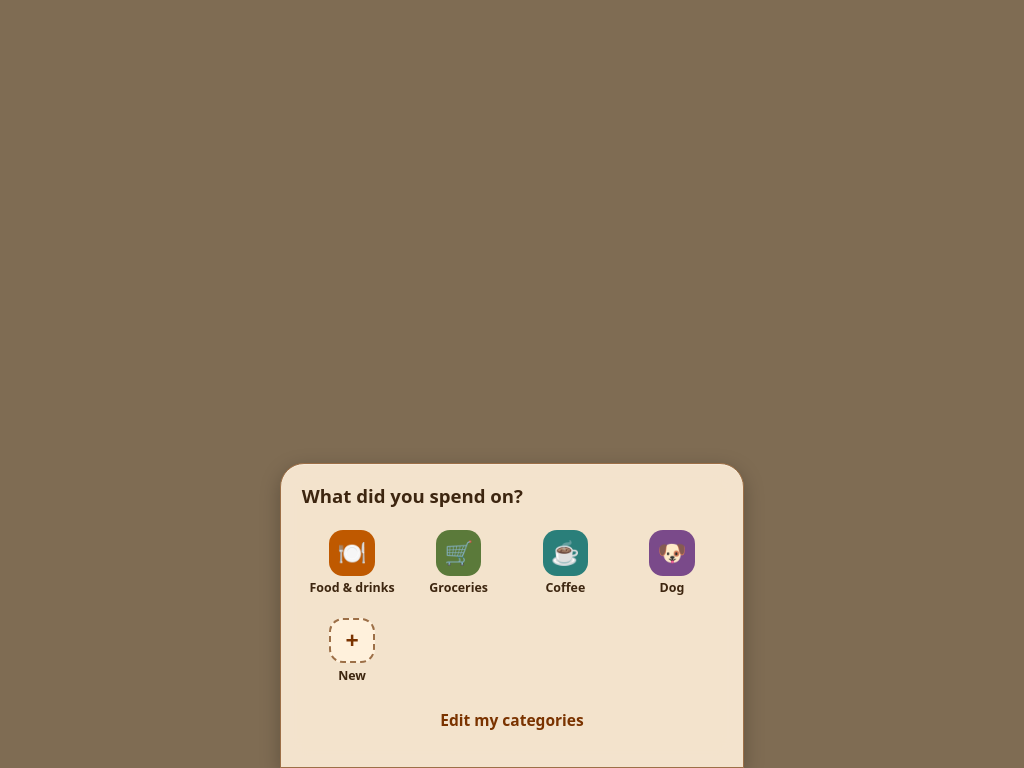
Test: PersonalSpendingSheet, refused saves › shows the translated message for PERSONAL_ENTRY_AMOUNT_NOT_POSITIVE above Save
Step 1. Click the button "☕ Coffee" → coordinates (565, 563), box [515,524,616,601]
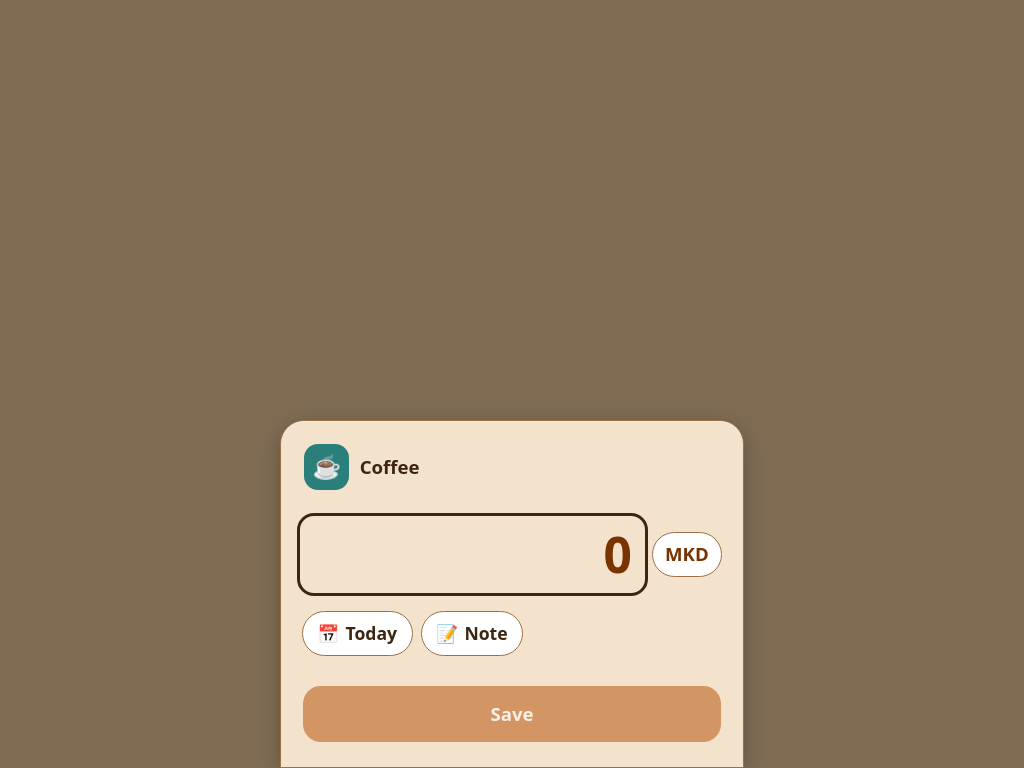
Step 2. Type "120" into the field named "Amount" → coordinates (473, 554), box [300,516,646,592]
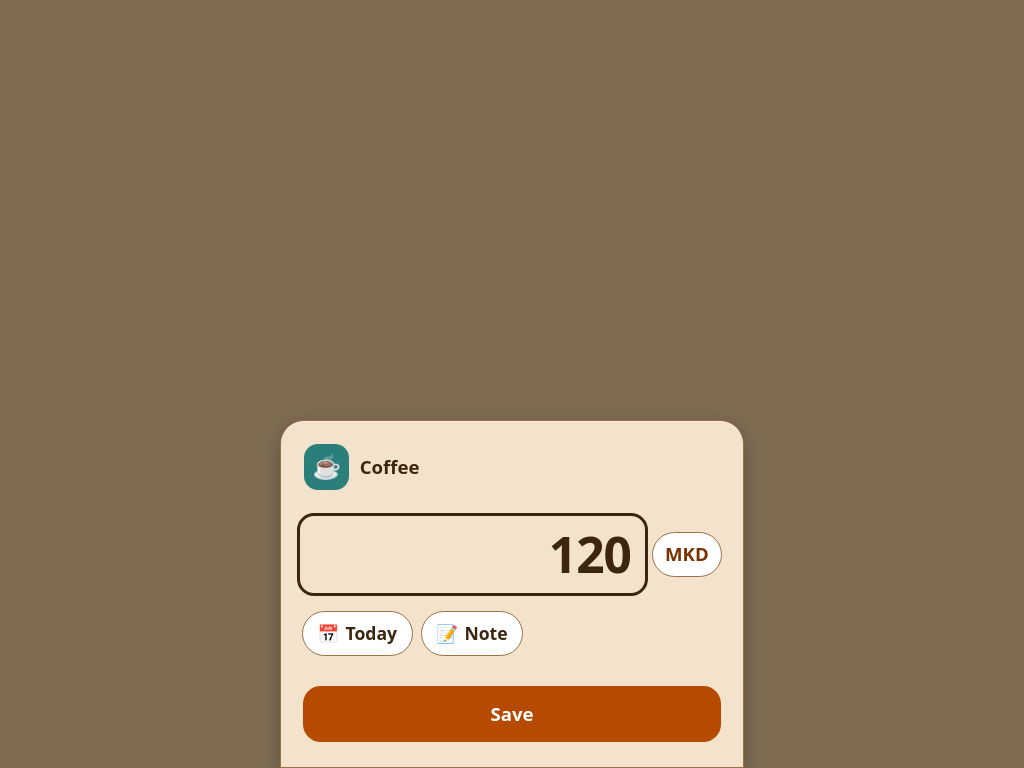
Step 3. Click the button "📝 Note" → coordinates (472, 633), box [421,610,523,656]
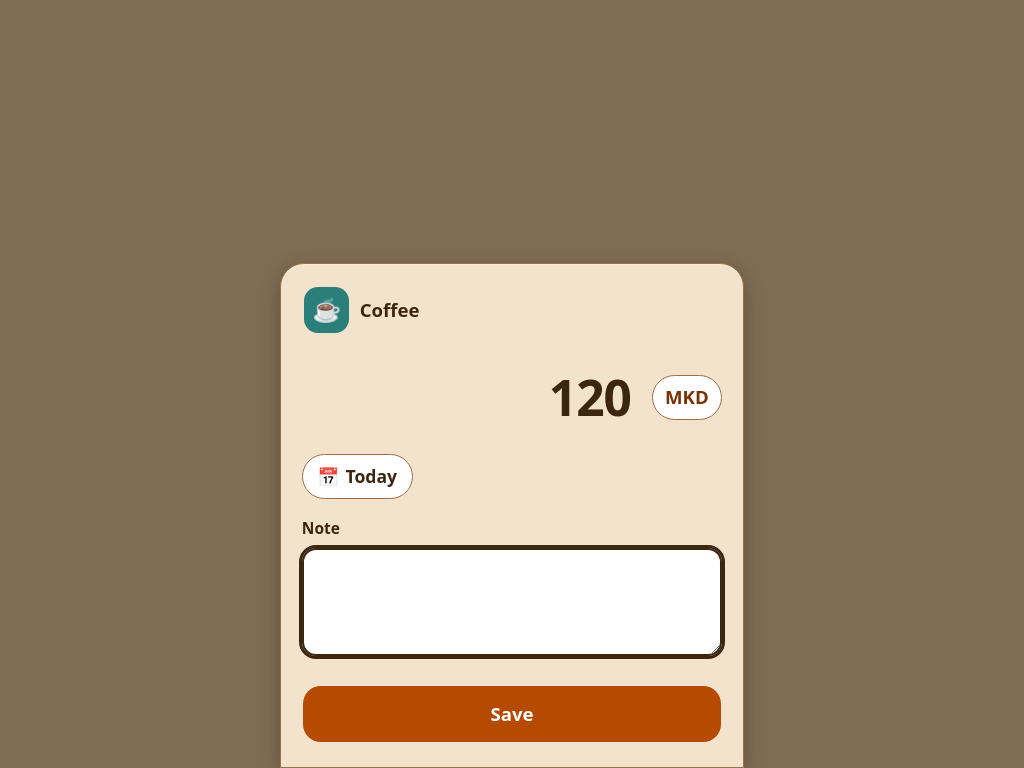
Step 4. Type "for the office" into the text box labelled "Note" → coordinates (512, 602), box [302,548,722,656]
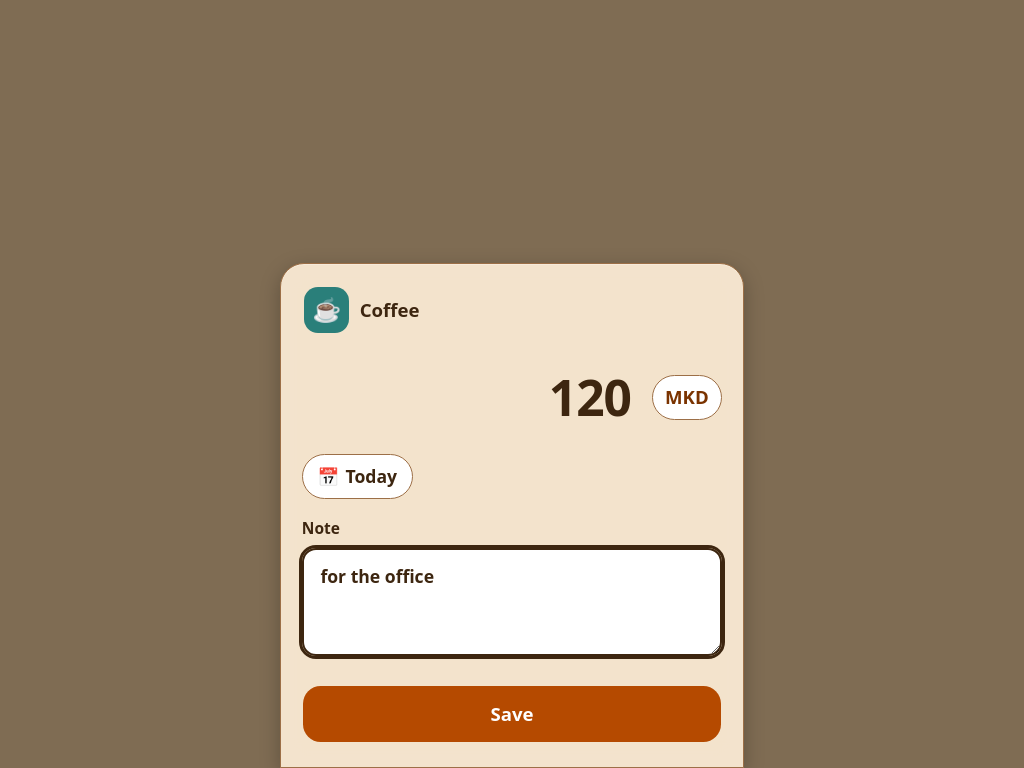
Step 5. Click the button "Save" → coordinates (512, 714), box [302,685,722,743]
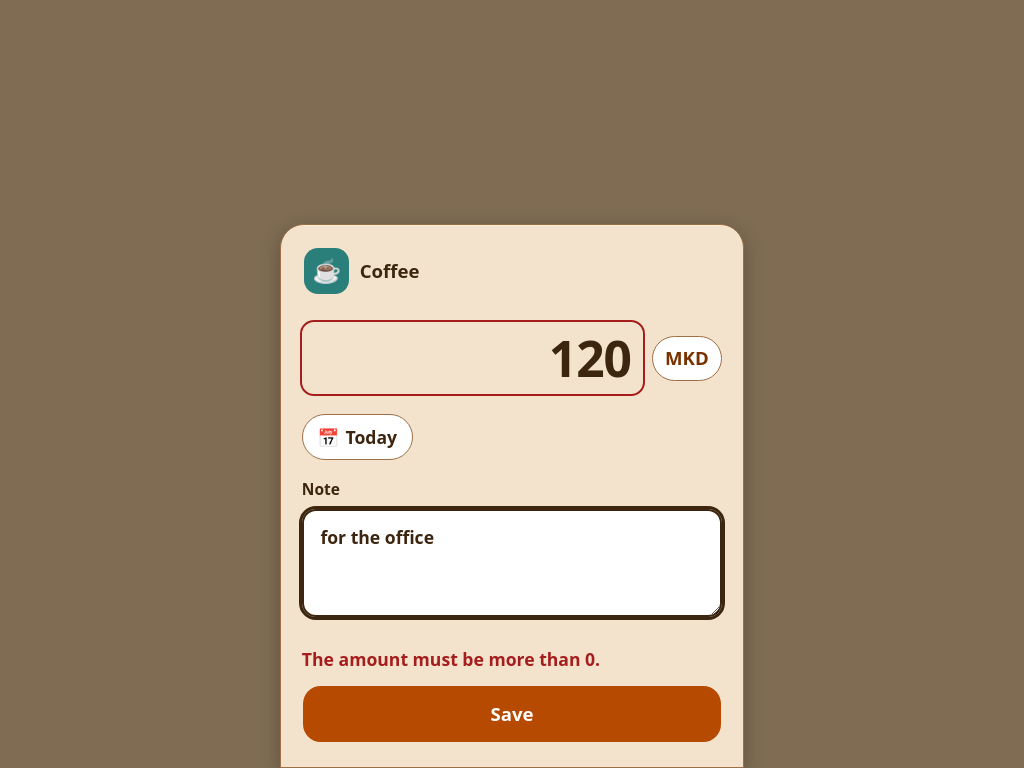
Expected: the message reads "The amount must be more than 0.", [302,647,600,671]
